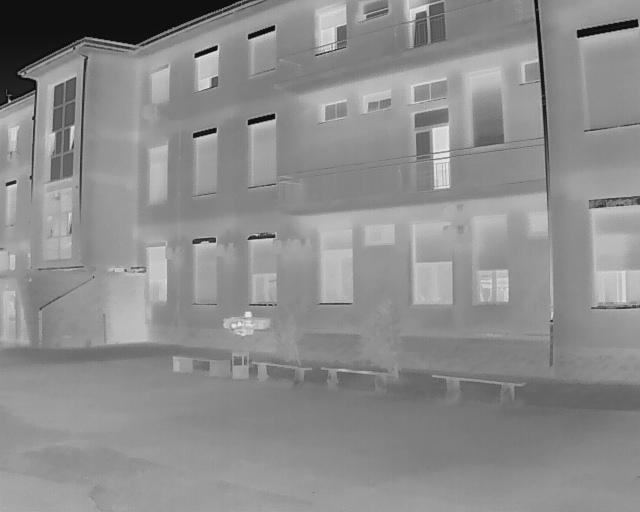drone: (222, 300, 273, 344)
